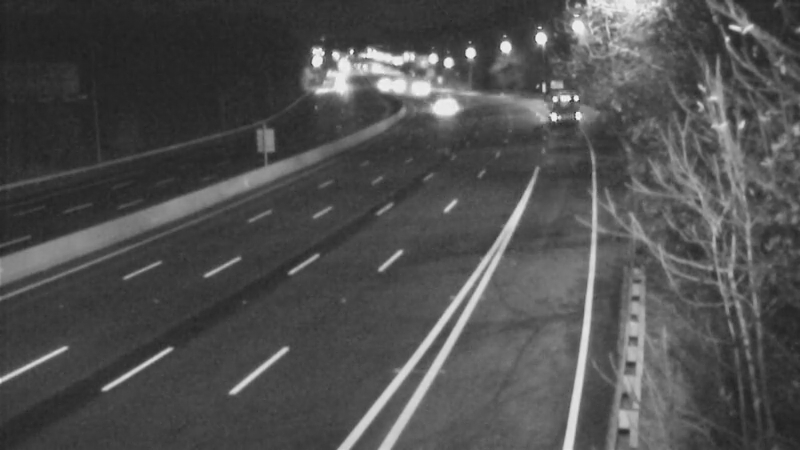vehicle: (372, 60, 422, 110), (357, 62, 407, 112), (389, 59, 439, 109), (395, 61, 445, 111), (532, 75, 582, 125), (420, 79, 470, 129)
